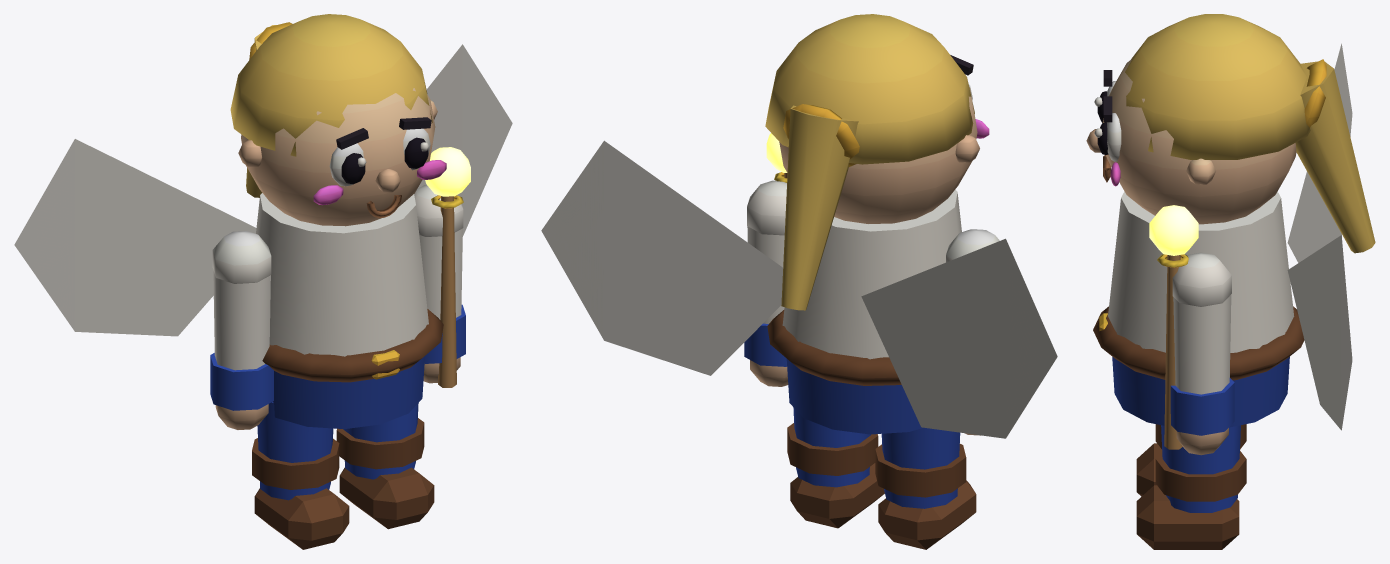
Rendered from hero_skye.glb.
3 views of the same model, side by side, from view 1: azimuth 30°, elevation 25°; view 2: azimuth 150°, elevation 25°; view 3: azimuth 270°, elevation 25° (orthographic). The views are drawn at different scales.
Parts seen in each view (by area): view 1: body_t0_palette, arml_t0_palette, legl_t0_palette, legr_t0_palette, armr_t0_palette, armr_t0_glow_gold; view 2: body_t0_palette, legl_t0_palette, legr_t0_palette, armr_t0_palette, arml_t0_palette; view 3: body_t0_palette, armr_t0_palette, legr_t0_palette, armr_t0_glow_gold, legl_t0_palette.
Boxes of the visible parts, x1,y1,x2,y2 form: body_t0_palette: (14, 14, 512, 429); arml_t0_palette: (210, 231, 273, 429); legl_t0_palette: (252, 402, 349, 549); legr_t0_palette: (336, 403, 434, 529); armr_t0_palette: (414, 185, 465, 387); armr_t0_glow_gold: (425, 147, 470, 196); body_t0_palette: (541, 14, 1057, 438); legl_t0_palette: (875, 427, 976, 549); legr_t0_palette: (787, 407, 884, 528); armr_t0_palette: (744, 172, 788, 386); arml_t0_palette: (946, 229, 999, 435); body_t0_palette: (1086, 14, 1375, 430); armr_t0_palette: (1157, 252, 1234, 455); legr_t0_palette: (1136, 425, 1246, 549); armr_t0_glow_gold: (1149, 205, 1198, 255); legl_t0_palette: (1136, 424, 1246, 496).
Bounding box in the file's own units: 0.54 × 0.508 × 0.2673.
